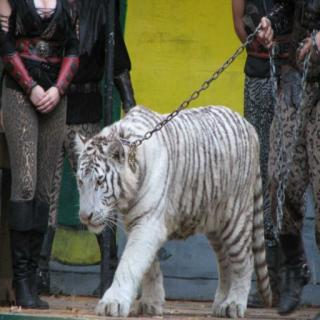Tiger: (62, 100, 281, 320)
